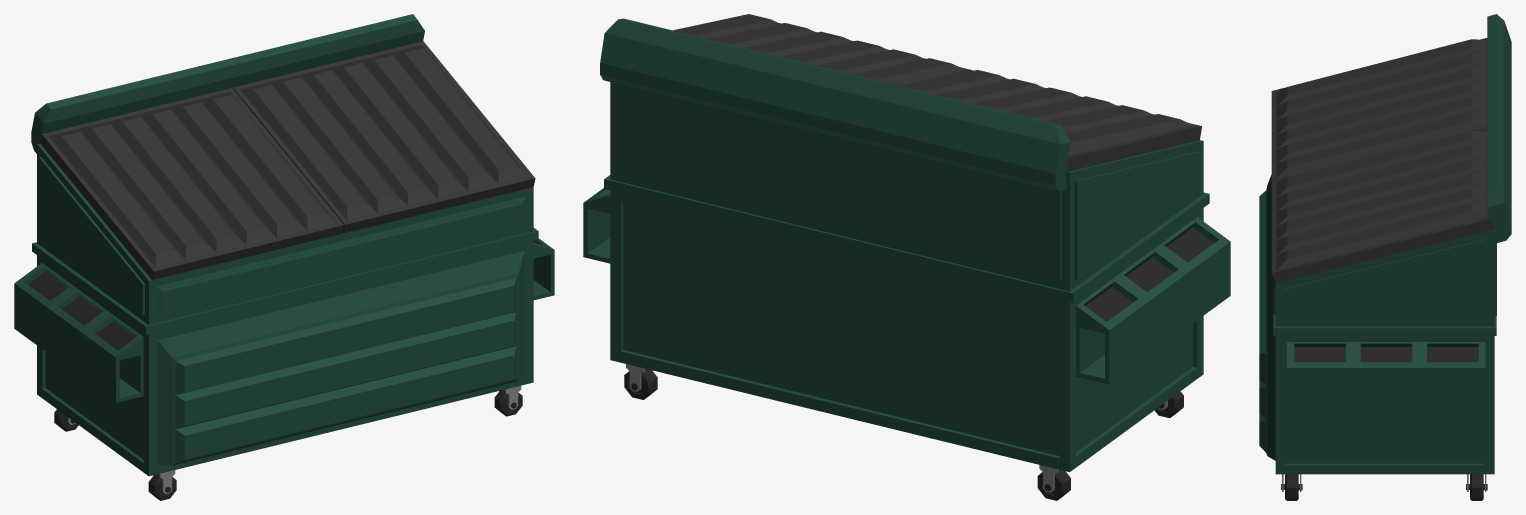
The model's file is props_66.glb.
3 renders of one model, left to right at view 1: azimuth 30°, elevation 25°; view 2: azimuth 150°, elevation 25°; view 3: azimuth 270°, elevation 25°, orthographic. The views are drawn at different scales.
Visible parts, largest first — view 1: props_66; view 2: props_66; view 3: props_66.
Boxes of the visible parts, x1=… form: props_66: x1=14, y1=14, x2=554, y2=500; props_66: x1=583, y1=14, x2=1230, y2=500; props_66: x1=1259, y1=14, x2=1511, y2=500.
Bounding box in the file's own units: 2.28 × 1.59 × 1.16.
Materials: 1 (1 with a texture image).
